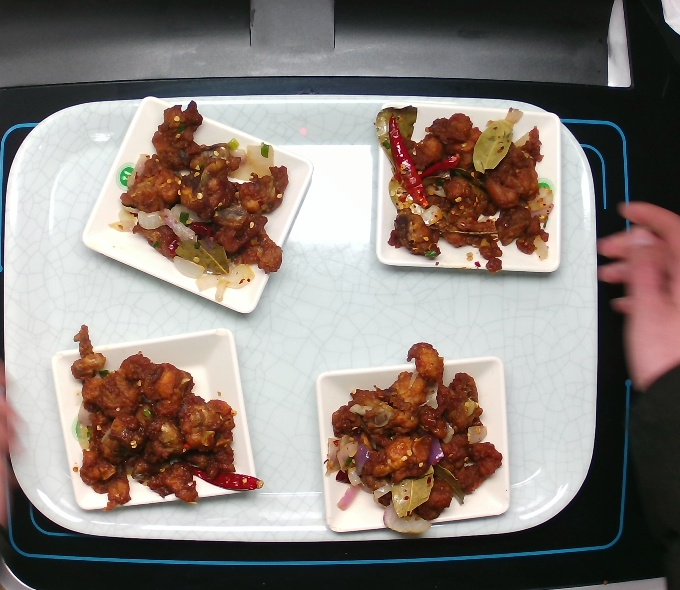wcq-LaZiJiKuai: (56, 319, 266, 515), (321, 338, 505, 536), (362, 89, 558, 274), (101, 98, 297, 283)
